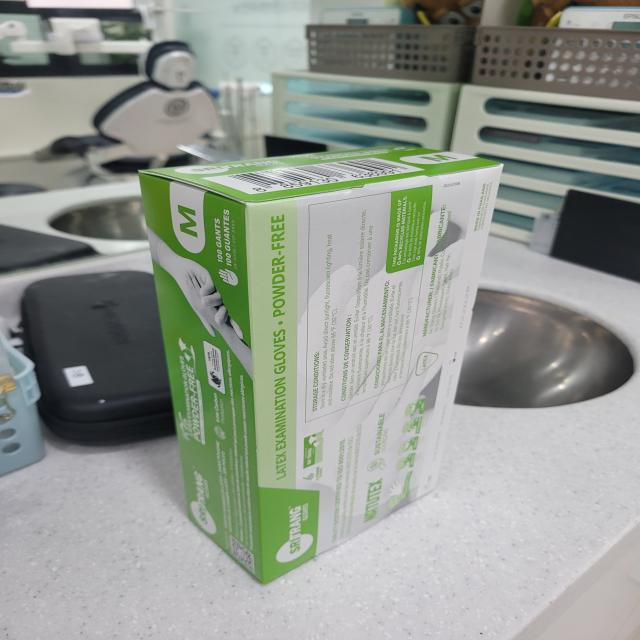glove: (124, 126, 493, 580)
